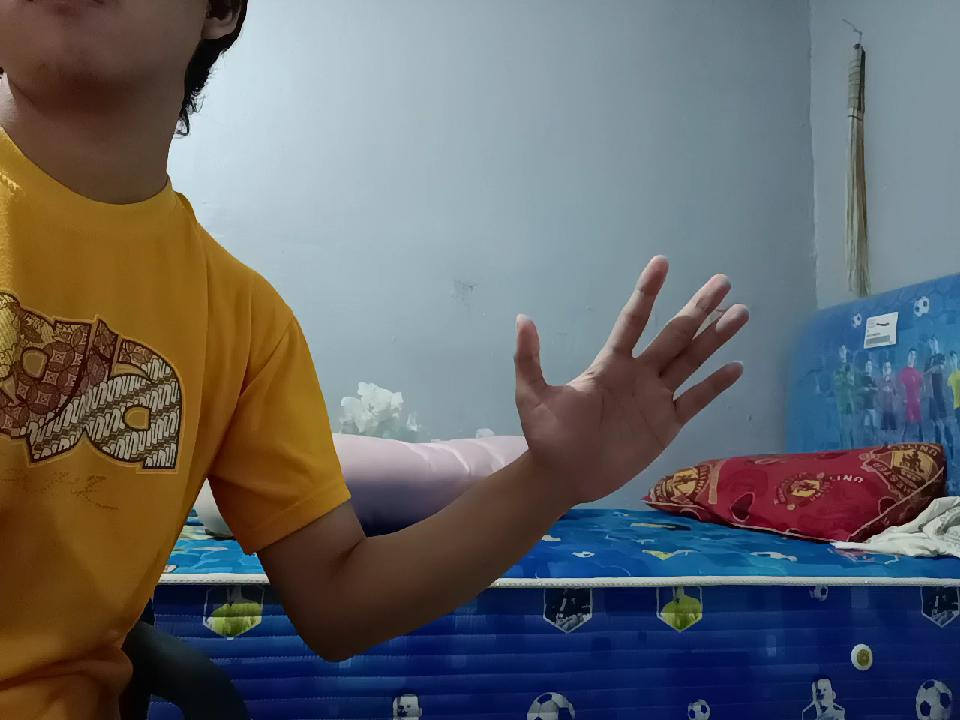paper: (492, 244, 763, 482)
